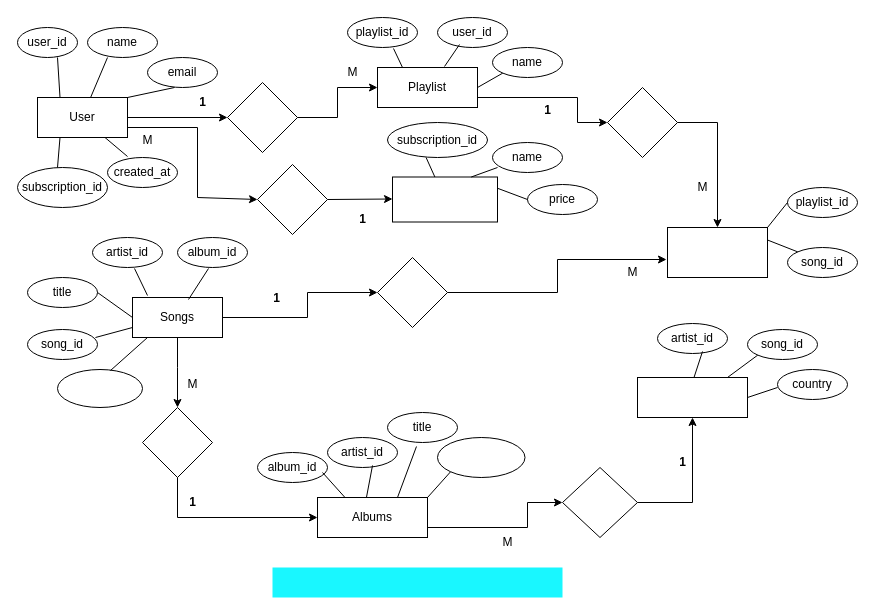
Image size: 875x615. Some labels were removed from this diagram. Here are the shapes that lost their labels. From the top down, the box of each, then its label:
(226, 82, 298, 152): Create
(606, 86, 678, 158): Have
(256, 164, 328, 234): Subscribe
(392, 176, 498, 222): Subscription
(666, 226, 768, 278): Playlist_Songs
(376, 256, 448, 328): Part of
(56, 368, 142, 408): released_date
(636, 376, 748, 418): Artists
(142, 406, 212, 478): Belongs
(436, 436, 525, 478): released_year
(562, 466, 638, 538): Created By
(272, 567, 562, 597): Fig. ERD For Music Streaming Platform
